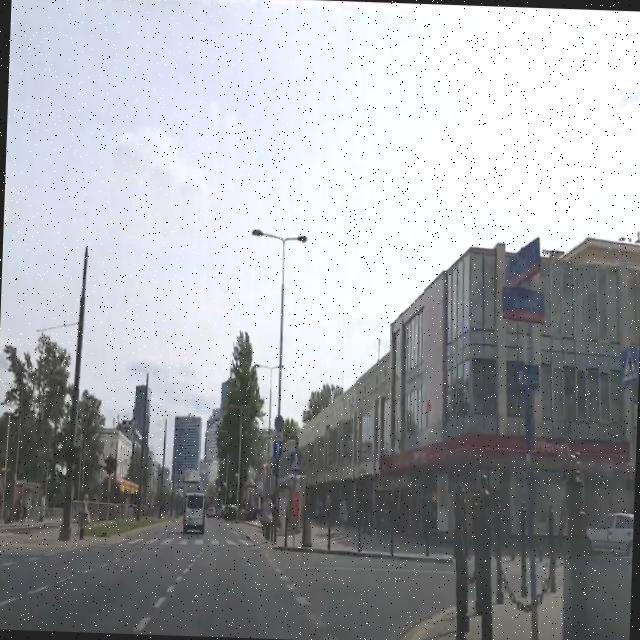Przejscie dla pieszych: (619, 348, 638, 386)
Zakaz zatrzymywania sie: (274, 412, 286, 433)
